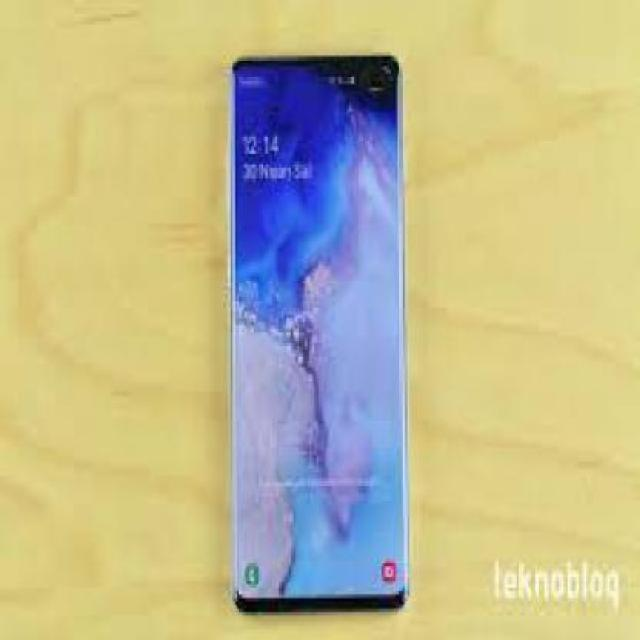mobile: (231, 49, 412, 616)
